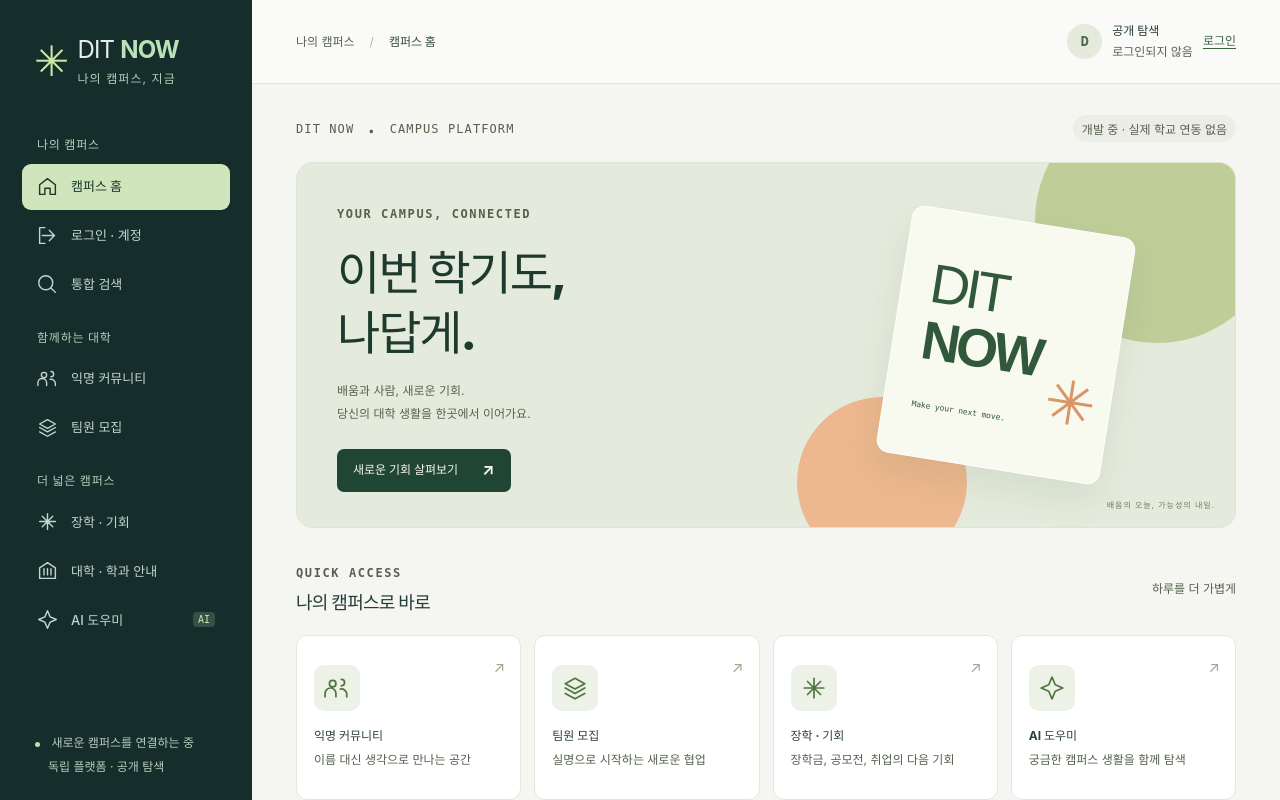
new application authenticated P0 integration (fetch test double only) › requires current auth/me after login; 503 never opens protected screens
Click the link "익명 커뮤니티". click: (92, 379)
box: x1=37 y1=368 x2=146 y2=389
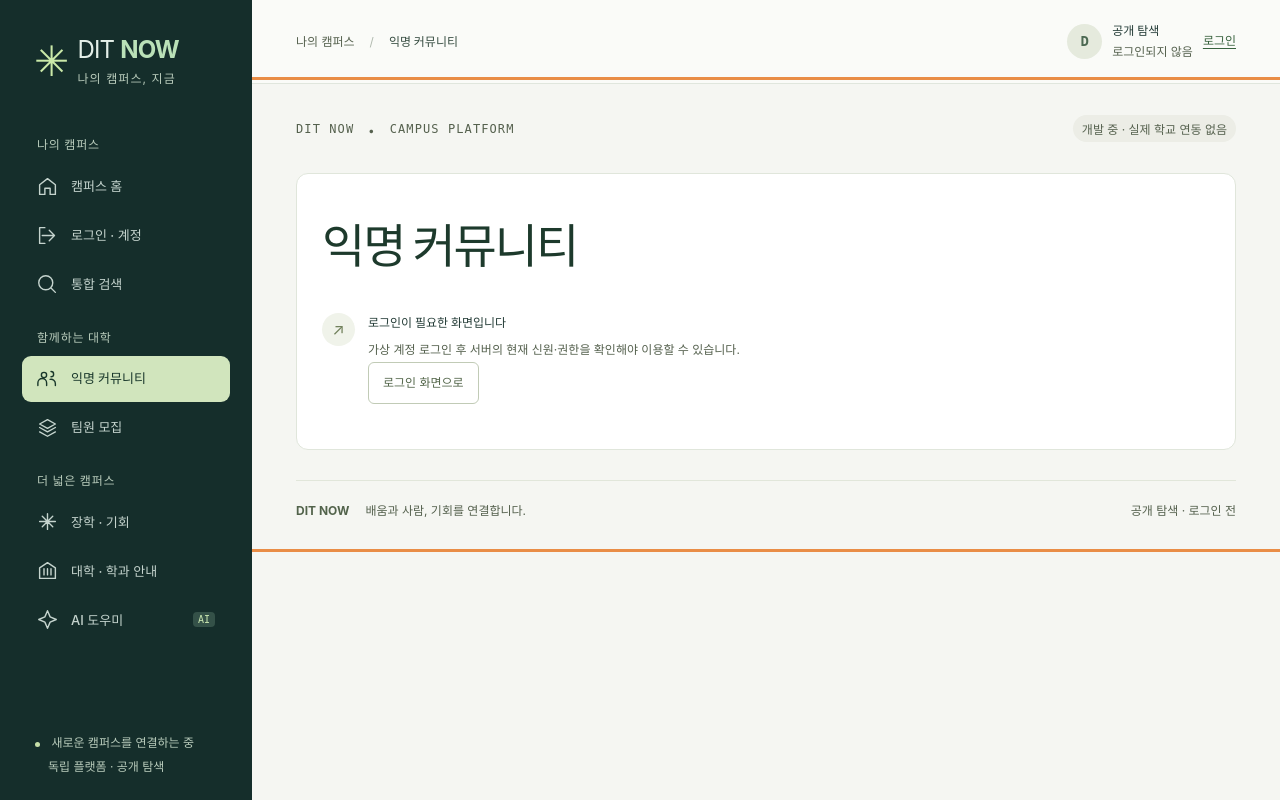
Click the link "로그인 · 계정". click: (89, 236)
box: x1=37 y1=225 x2=142 y2=246
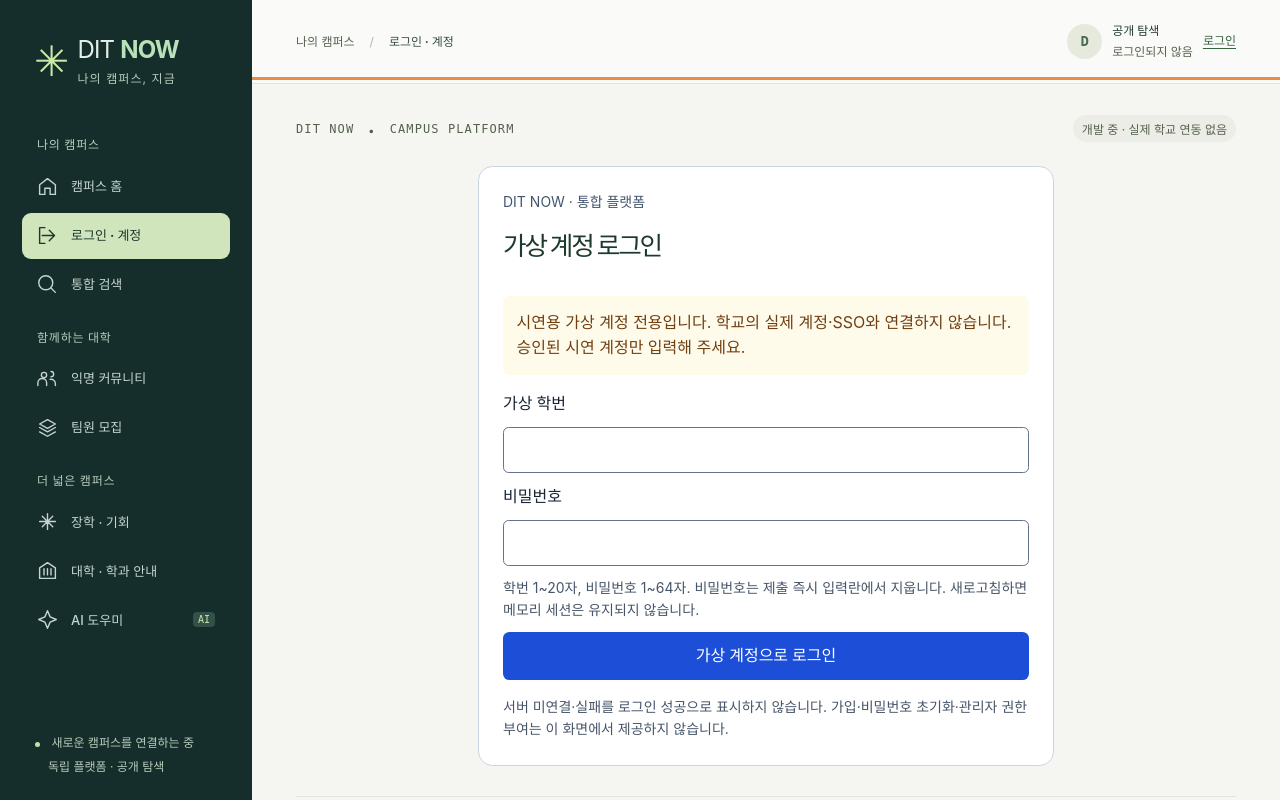
Type "fakeA" into the field labelled "가상 학번". click: (766, 450)
box: x1=503 y1=426 x2=1029 y2=473
Type "synthetic" into the password field labelled "비밀번호". click: (766, 543)
box: x1=503 y1=520 x2=1029 y2=566
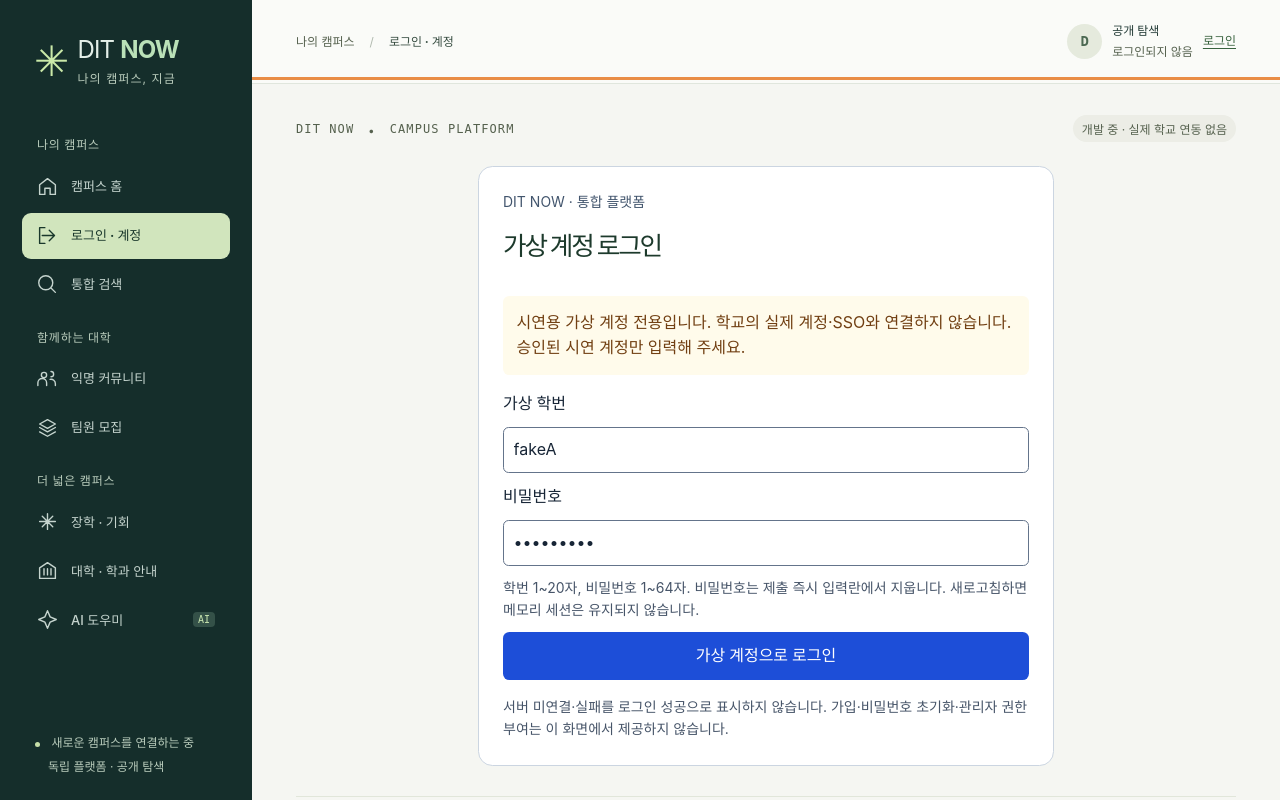
Submit the form named "가상 계정으로 로그인", box x1=503 y1=390 x2=1029 y2=680
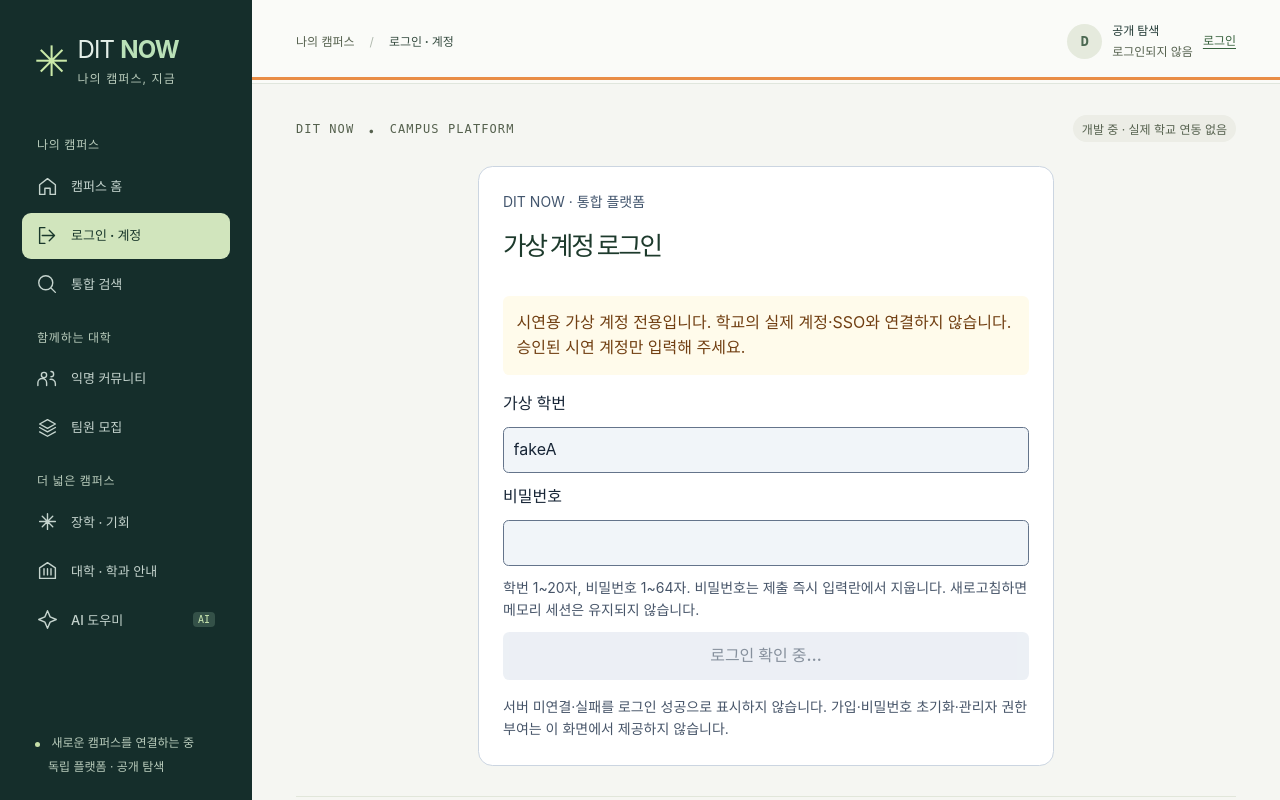
Submit the form named "가상 계정으로 로그인", box x1=503 y1=390 x2=1029 y2=680
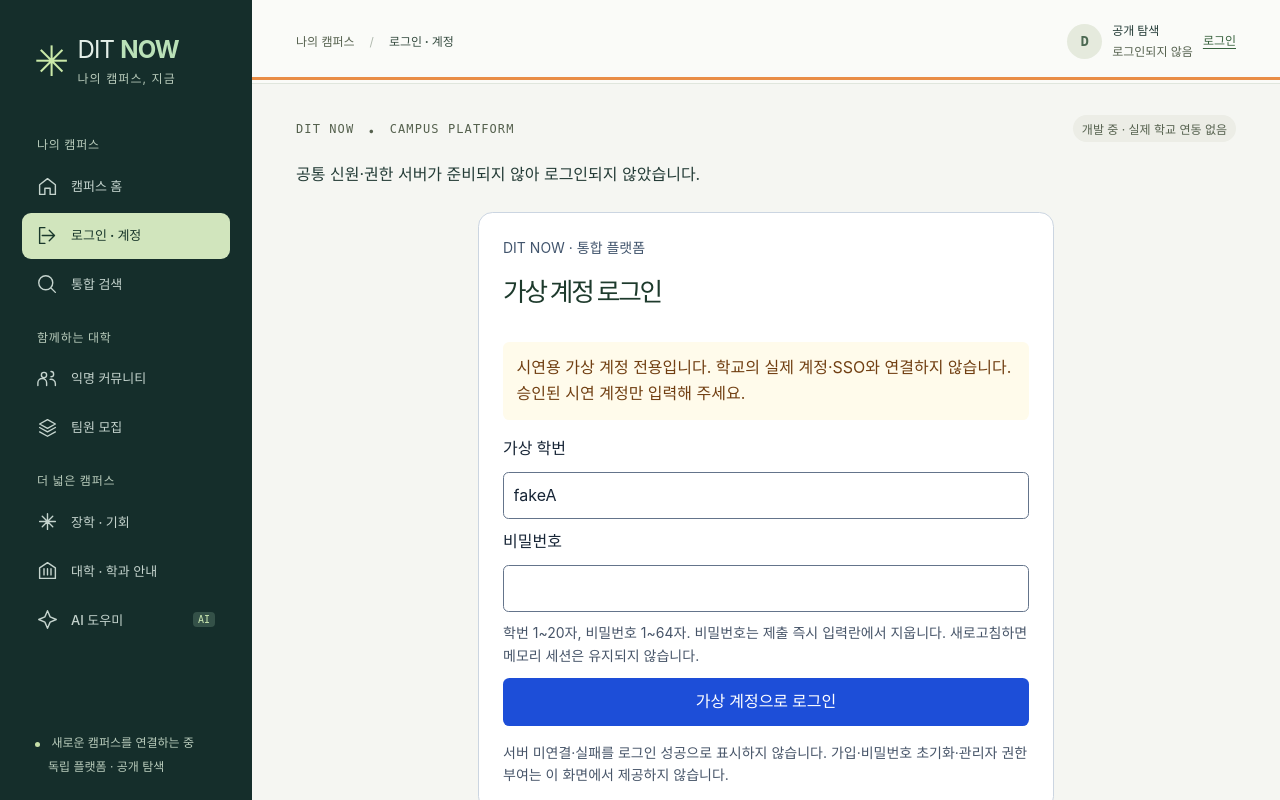
Expected: the text "공통 신원·권한 서버가 준비되지 않아 로그인되지 않았습니다." is shown, x1=296 y1=164 x2=700 y2=184
Click the link "익명 커뮤니티". click: (92, 379)
box: x1=37 y1=368 x2=146 y2=389
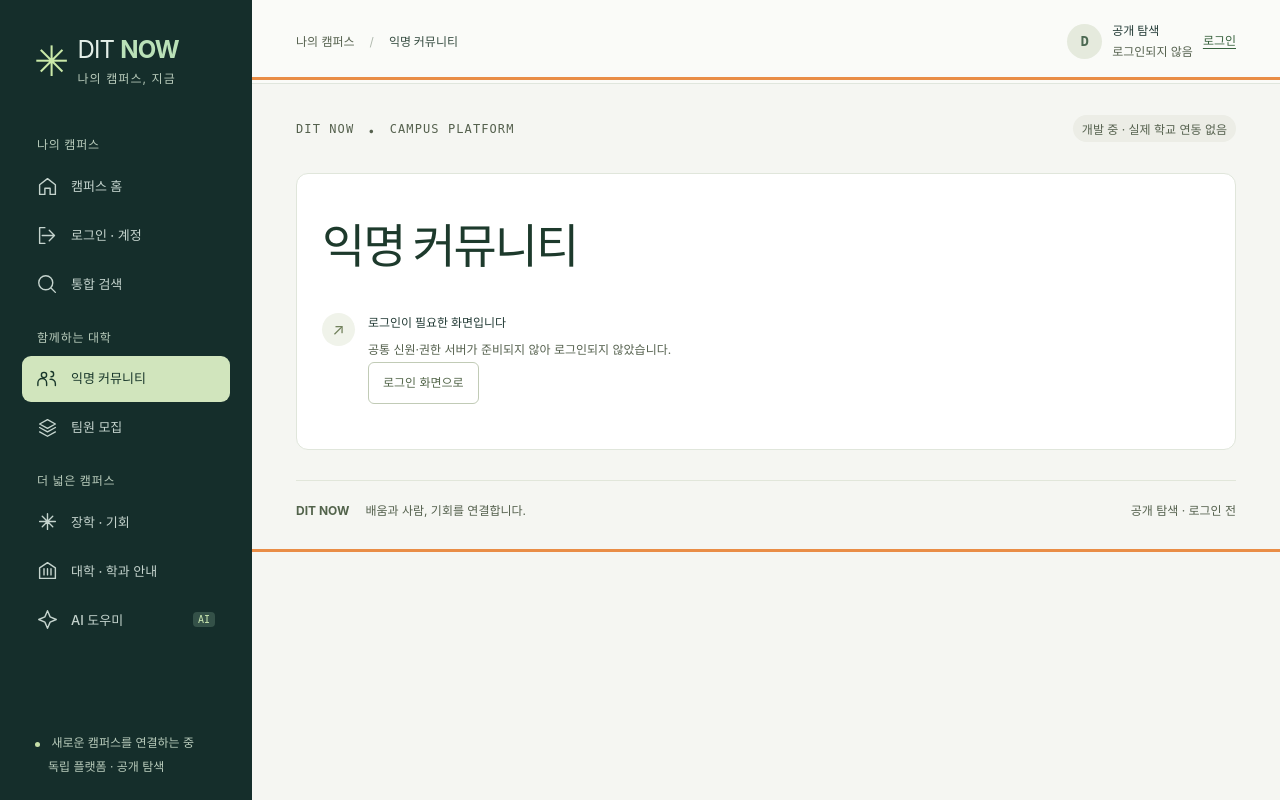
Expected: the text "로그인이 필요한 화면입니다" is shown, x1=368 y1=315 x2=506 y2=330
